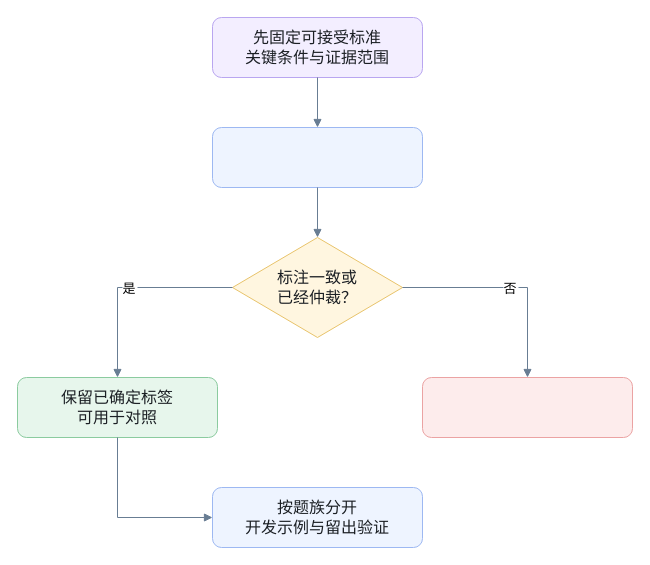
The diagram is 650 pixels wide and 565 high, and some of its shapes have lost their labels. The shapes that lost their labels are listed below. From the top down, each one's centre as x and y in pixels, then its label:
pixel 317 157: 独立标注与理由 本课参考为构造示例
pixel 527 407: 保留分歧或未标注 不冒充确定真值
